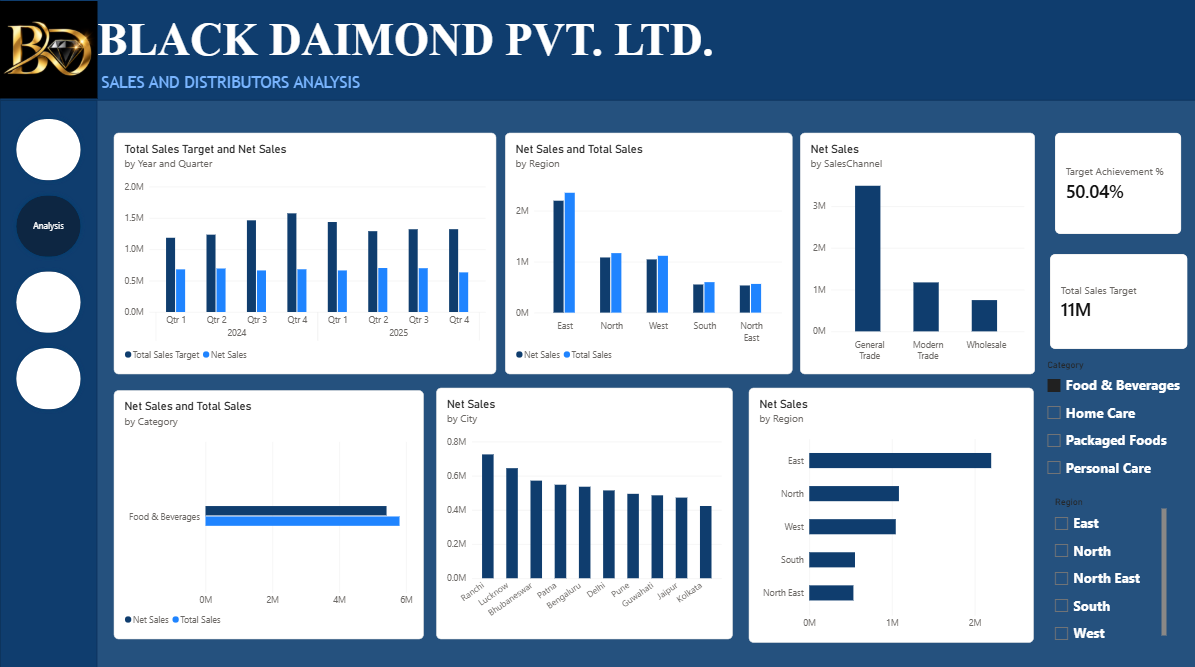

The page's visual inventory and layout, read from the dashboard file:
{"tool":"powerbi","page":{"name":"Analysis","canvas":[1920,1080],"ordinal":1},"visuals":[{"type":"cardVisual","fields":{"Data":["SalesTargets.Total Sales Target"]},"box":[1680,408,220,152],"z":0},{"type":"clusteredColumnChart","fields":{"Category":["DimMonth.MonthStart.Variation.Date Hierarchy.Year","DimMonth.MonthStart.Variation.Date Hierarchy.Quarter","DimMonth.MonthStart.Variation.Date Hierarchy.Month","DimMonth.MonthStart.Variation.Date Hierarchy.Day"],"Y":["SalesTargets.Total Sales Target","SalesLines.Net Sales"]},"box":[182,214,612,386],"z":1000},{"type":"clusteredBarChart","fields":{"Category":["DimCategory.Category"],"Y":["SalesLines.Net Sales","SalesLines.Total Sales"]},"box":[182,626,496,398],"z":2000},{"type":"clusteredColumnChart","fields":{"Category":["Invoices.SalesChannel"],"Y":["SalesLines.Net Sales"]},"box":[1280,214,376,386],"z":3000},{"type":"clusteredColumnChart","fields":{"Category":["Outlets.City"],"Y":["SalesLines.Net Sales"]},"box":[698,622,474,402],"z":4000},{"type":"clusteredColumnChart","fields":{"Category":["DimRegion.Region"],"Y":["SalesLines.Net Sales","SalesLines.Total Sales"]},"box":[808,214,460,386],"z":5000},{"type":"clusteredBarChart","fields":{"Category":["Distributors.Region"],"Y":["SalesLines.Net Sales"]},"box":[1198,622,456,408],"z":6000},{"type":"slicer","fields":{"Values":["DimCategory.Category"]},"box":[1668,576,232,250],"z":7000},{"type":"cardVisual","fields":{"Data":["SalesTargets.Target Achievement %"]},"box":[1688,214,202,162],"z":8000},{"type":"slicer","fields":{"Values":["DimRegion.Region"]},"box":[1680,796,186,234],"z":9000},{"type":"shape","box":[0,0,1919.6,162.3],"z":10000},{"type":"textbox","box":[155.6,23.5,1046,94.1],"z":11000},{"type":"shape","box":[0,162.5,155.6,917.5],"z":12000},{"type":"textbox","box":[162,118,960,44],"z":14000},{"type":"image","box":[0,0,156,162],"z":15000},{"type":"pageNavigator","box":[17.1,183.5,119.5,480],"z":15001}]}

Visuals, with their boxes in screenshot pixels (x1, y1, x2, y2), scaled from the page's 1920x1080 canvas onto the 1195x667 screenshot:
cardVisual - SalesTargets.Total Sales Target: box=[1046, 252, 1183, 346]
clusteredColumnChart - DimMonth.MonthStart.Variation.Date Hierarchy.Year x DimMonth.MonthStart.Variation.Date Hierarchy.Quarter: box=[113, 132, 494, 371]
clusteredBarChart - DimCategory.Category x SalesLines.Net Sales: box=[113, 387, 422, 632]
clusteredColumnChart - Invoices.SalesChannel x SalesLines.Net Sales: box=[797, 132, 1031, 371]
clusteredColumnChart - Outlets.City x SalesLines.Net Sales: box=[434, 384, 729, 632]
clusteredColumnChart - DimRegion.Region x SalesLines.Net Sales: box=[503, 132, 789, 371]
clusteredBarChart - Distributors.Region x SalesLines.Net Sales: box=[746, 384, 1029, 636]
slicer - DimCategory.Category: box=[1038, 356, 1183, 510]
cardVisual - SalesTargets.Target Achievement %: box=[1051, 132, 1176, 232]
slicer - DimRegion.Region: box=[1046, 492, 1161, 636]
shape: box=[0, 0, 1194, 100]
textbox: box=[97, 15, 748, 73]
shape: box=[0, 100, 97, 666]
textbox: box=[101, 73, 698, 100]
image: box=[0, 0, 97, 100]
pageNavigator: box=[11, 113, 85, 410]
